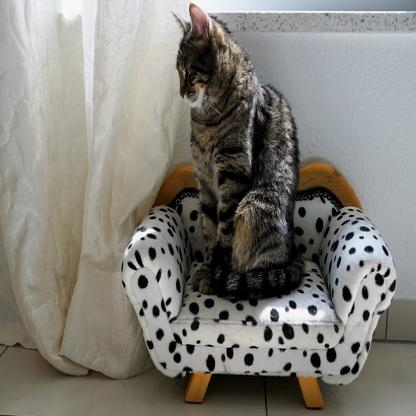cat: (170, 3, 306, 294)
